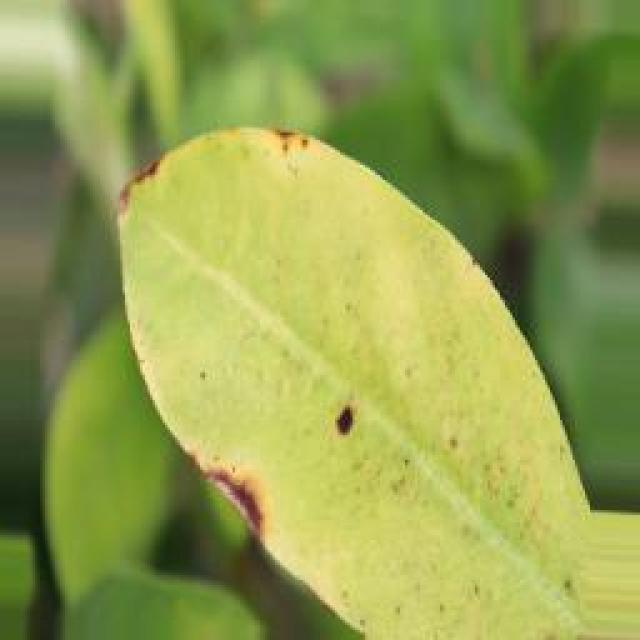Yellowish: (163, 424, 273, 544), (249, 100, 359, 196), (106, 125, 183, 237), (316, 364, 384, 476)
